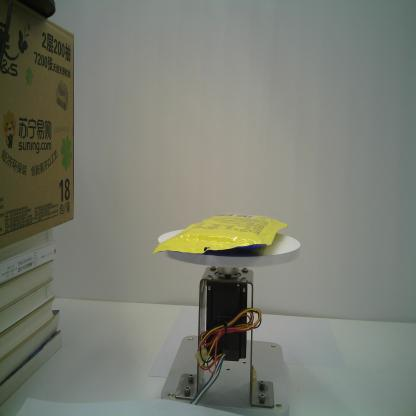Dried Fruit: (152, 209, 290, 261)
